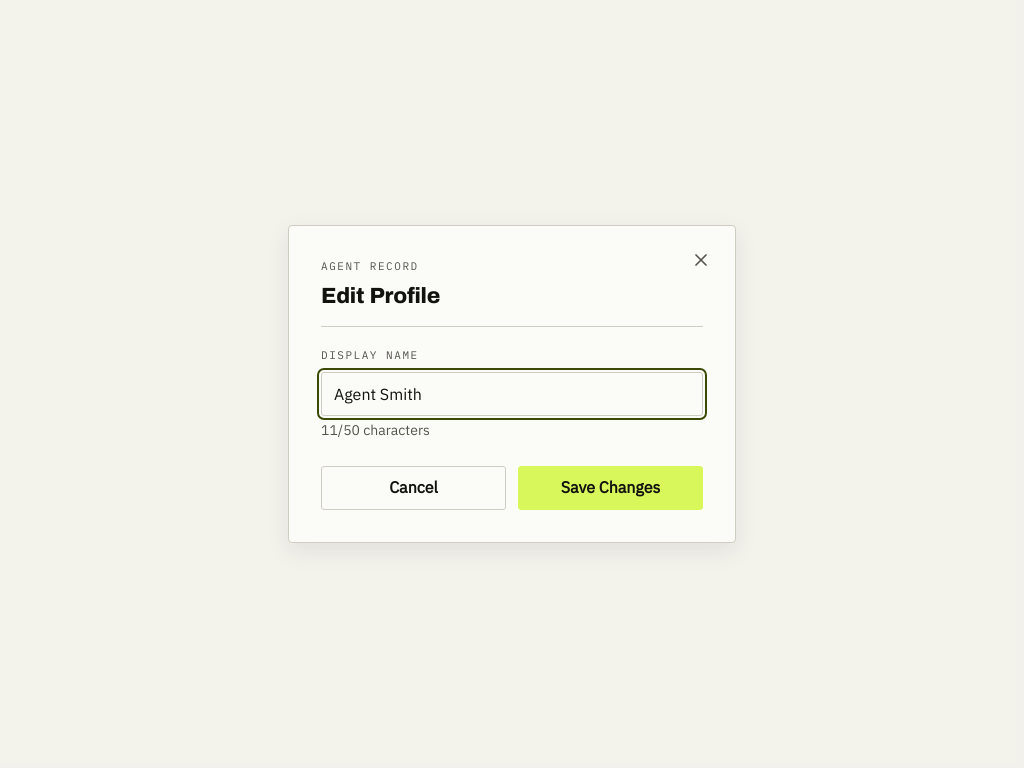
Test case: ProfileEditModal › Form Submission › shows success message after submission
Replace the text in the field labelled "Display Name" with "Updated Name" at (512, 394), box [321,372,703,416]
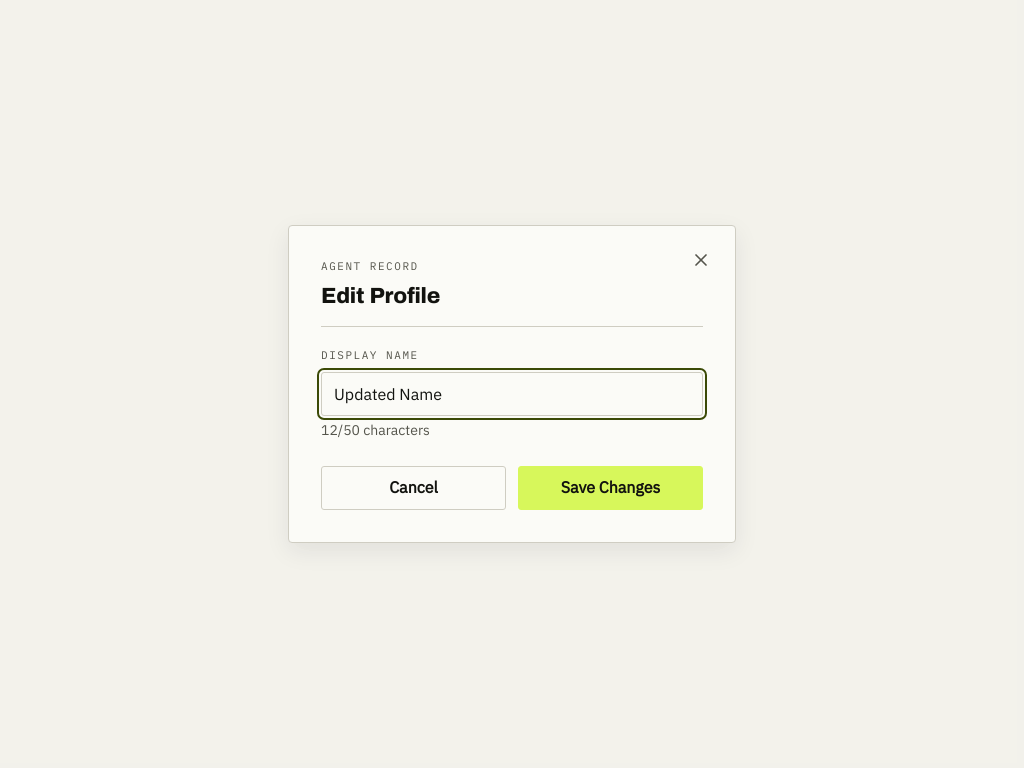
Click the button "Save Changes".
click(610, 488)  # box [518,466,703,510]
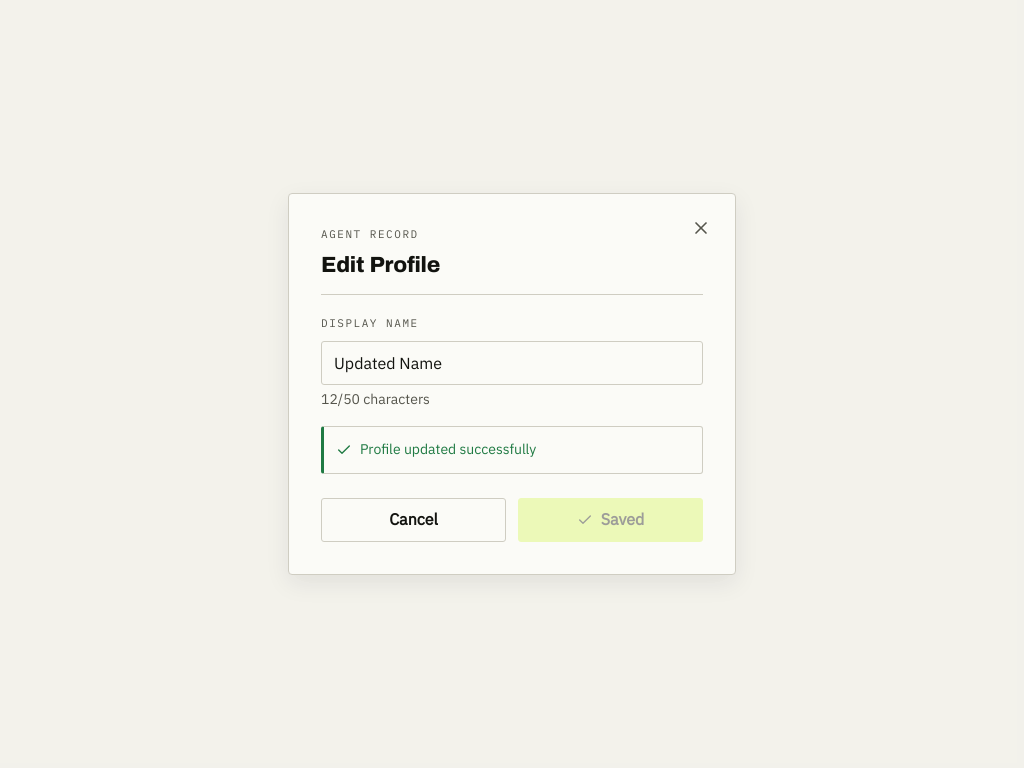
expect the text "Profile updated successfully" is shown: met, box [321,426,703,474]
